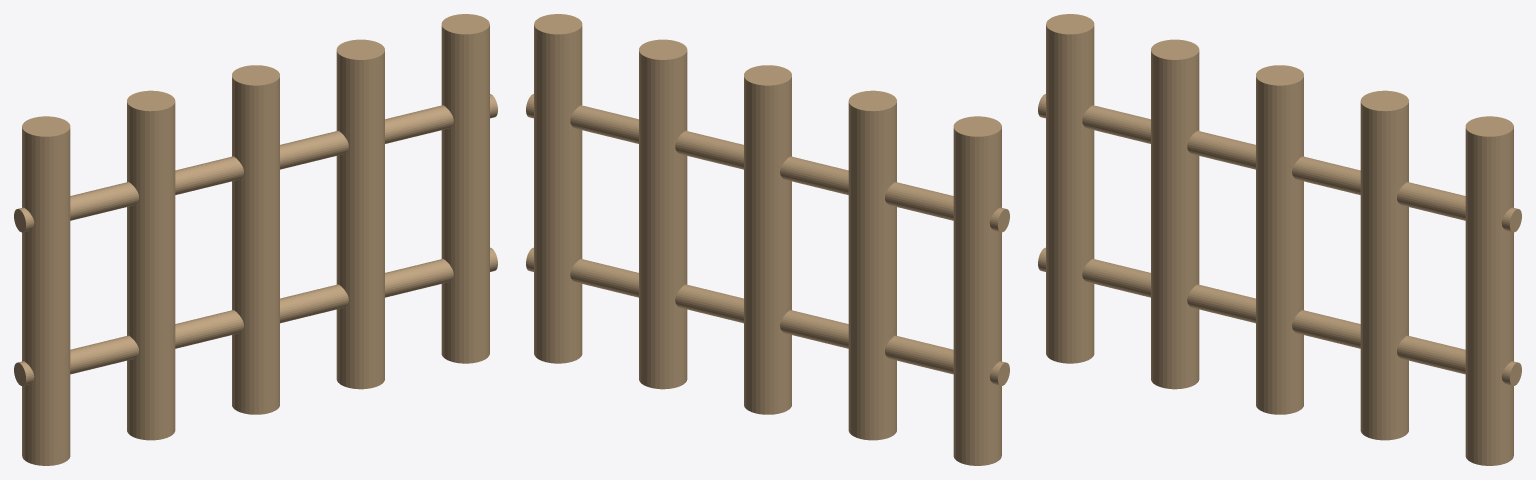
Rendered from garden_fence.glb.
The picture shows the model from 3 angles, left to right: view 1: azimuth 30°, elevation 25°; view 2: azimuth 150°, elevation 25°; view 3: azimuth 330°, elevation 25°; orthographic projection.
Visible parts, largest first — view 1: Cylinder.001, Cylinder, Cylinder.004, Cylinder.003, Cylinder.002, Cylinder.005, Cylinder.006; view 2: Cylinder.001, Cylinder, Cylinder.004, Cylinder.003, Cylinder.002, Cylinder.005, Cylinder.006; view 3: Cylinder.003, Cylinder.004, Cylinder, Cylinder.001, Cylinder.002, Cylinder.005, Cylinder.006.
Boxes of the visible parts, <box> form: Cylinder.001: <box>127,90,175,440</box>; Cylinder: <box>22,116,70,465</box>; Cylinder.004: <box>441,14,489,363</box>; Cylinder.003: <box>336,39,384,389</box>; Cylinder.002: <box>232,65,279,414</box>; Cylinder.005: <box>14,247,497,386</box>; Cylinder.006: <box>14,94,497,232</box>; Cylinder.001: <box>848,90,896,440</box>; Cylinder: <box>953,116,1001,465</box>; Cylinder.004: <box>534,14,582,363</box>; Cylinder.003: <box>639,39,687,389</box>; Cylinder.002: <box>744,65,791,414</box>; Cylinder.005: <box>526,247,1009,386</box>; Cylinder.006: <box>526,94,1009,232</box>; Cylinder.003: <box>1360,90,1408,440</box>; Cylinder.004: <box>1465,116,1513,465</box>; Cylinder: <box>1046,14,1094,363</box>; Cylinder.001: <box>1151,39,1199,389</box>; Cylinder.002: <box>1256,65,1303,414</box>; Cylinder.005: <box>1038,247,1521,386</box>; Cylinder.006: <box>1038,94,1521,232</box>.
Bounding box in the file's own units: 0.45 × 0.3 × 0.04.
